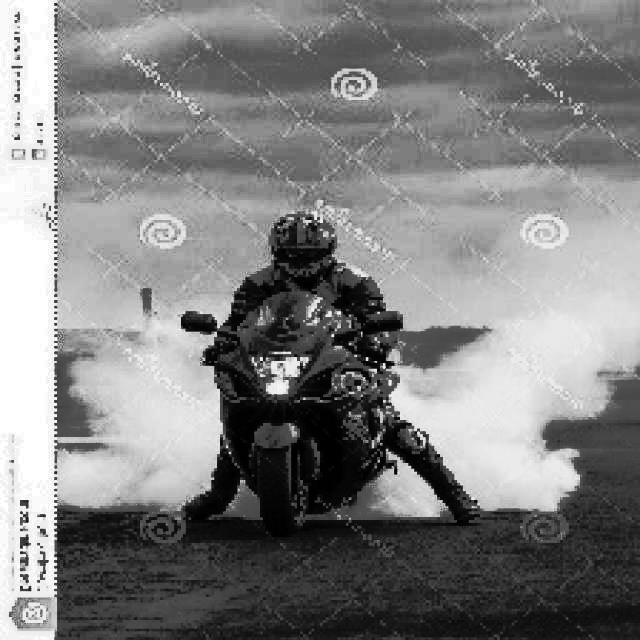Bike: (204, 306, 398, 541)
